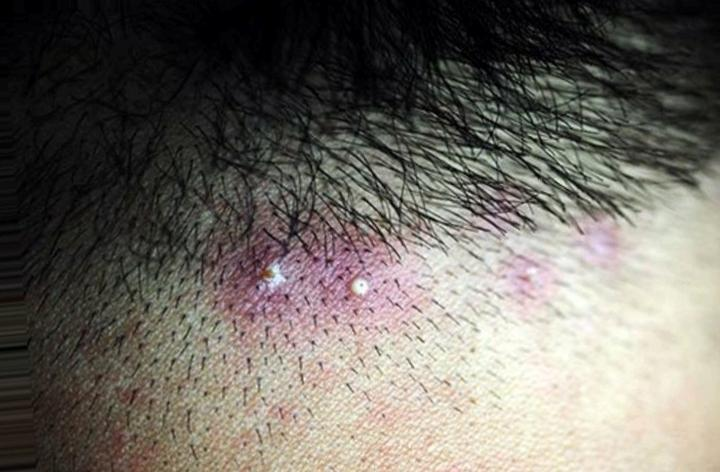Folliculitis: (231, 218, 390, 326)
